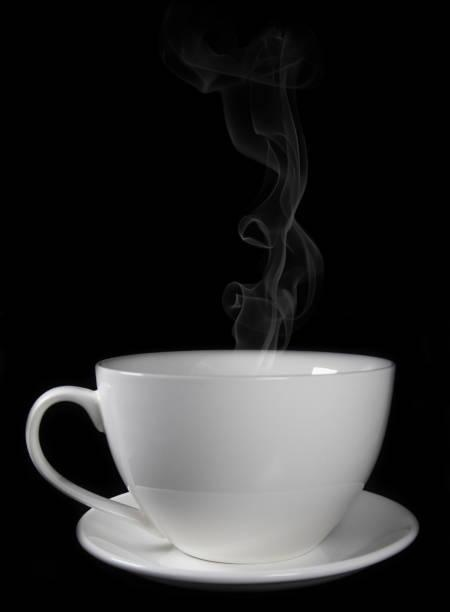cup-handle: (23, 346, 396, 565)
